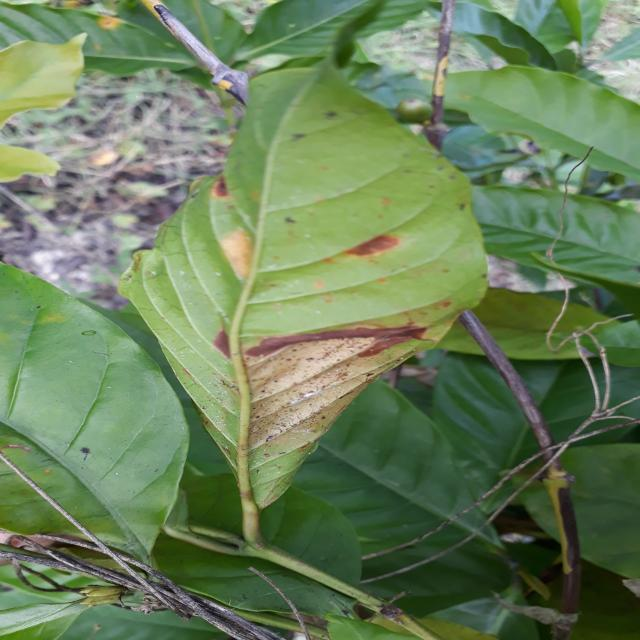Plaga-AranaRoja: (118, 57, 489, 548)
